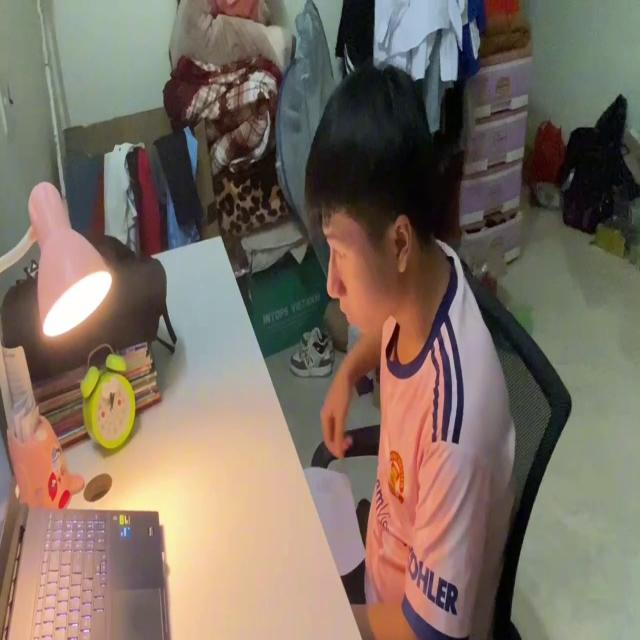book: (304, 460, 366, 582)
laptop: (0, 426, 170, 640)
student: (300, 68, 510, 640)
